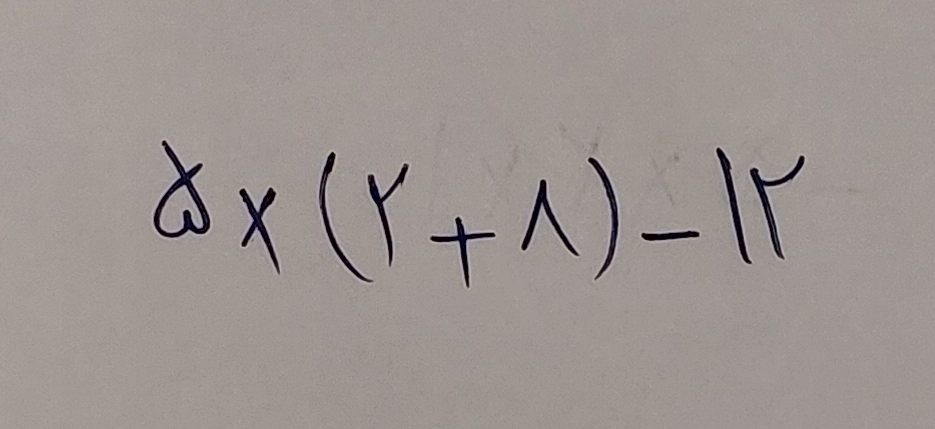character: (318, 150, 374, 284), (152, 141, 213, 241), (752, 154, 807, 261), (430, 217, 497, 291), (586, 158, 624, 279), (713, 145, 751, 265), (366, 160, 408, 268), (520, 178, 575, 252), (238, 186, 281, 274), (637, 229, 702, 244)
